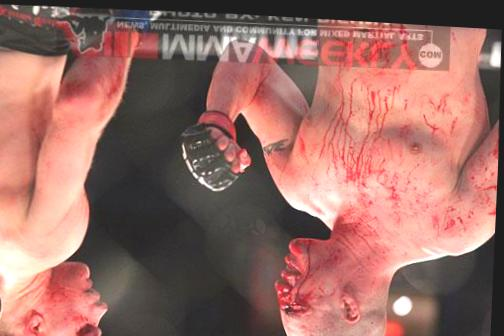Fire: (265, 63, 482, 336), (8, 261, 110, 336), (472, 118, 499, 228)
